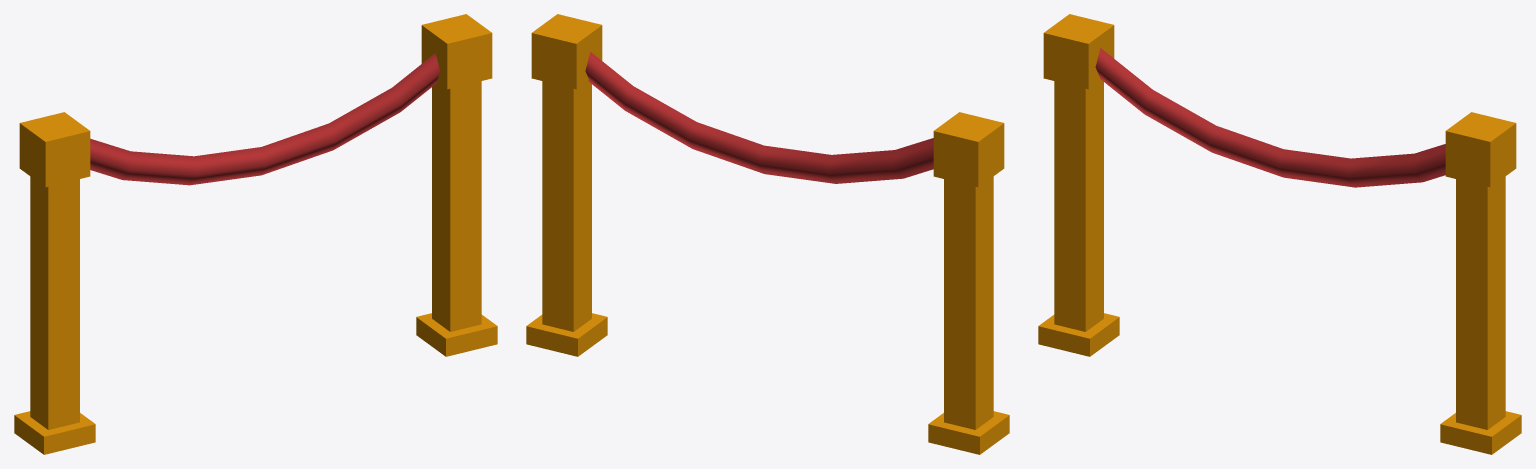
The model's file is Velvet rope.fbx.
3 renders of one model, left to right at view 1: azimuth 30°, elevation 25°; view 2: azimuth 150°, elevation 25°; view 3: azimuth 330°, elevation 25°, orthographic.
Parts seen in each view (by area): view 1: BezierCircle; view 2: BezierCircle; view 3: BezierCircle.
Part boxes in pixels (x1,y1,x2,y2): BezierCircle: (14, 14, 497, 454); BezierCircle: (526, 14, 1009, 454); BezierCircle: (1038, 14, 1521, 454).
Size of the model in its own units: 435 by 285 by 49.58.
